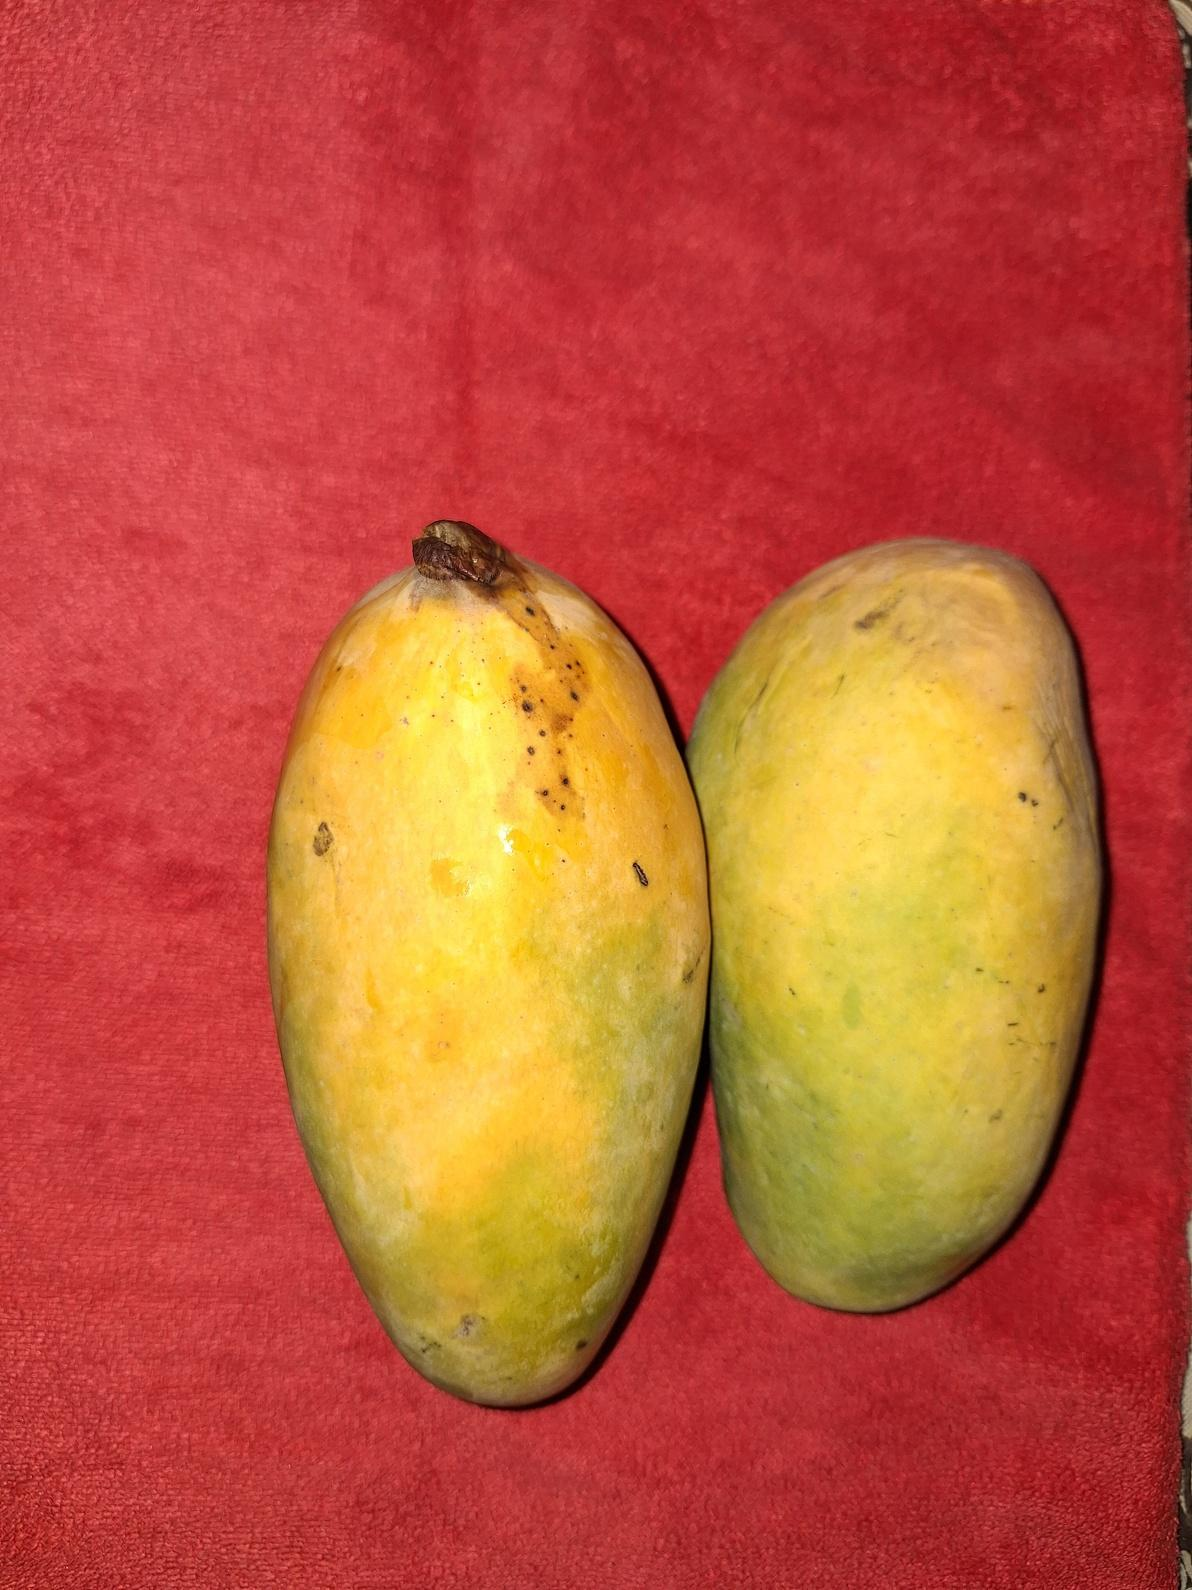mango: (264, 516, 712, 1408), (684, 535, 1106, 1315)
